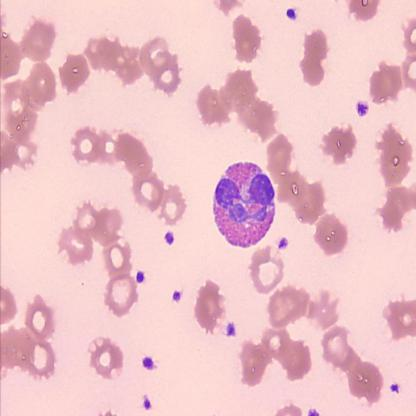Eosinophil: (212, 161, 277, 248)
